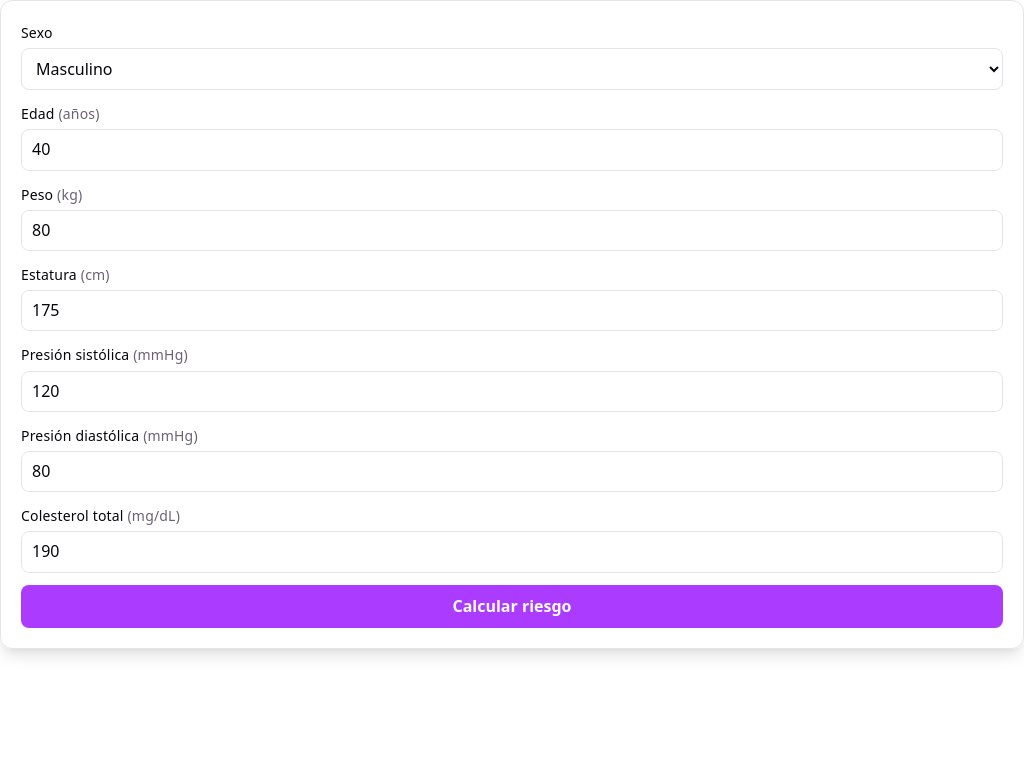
Test: PatientForm › avisa cuando un campo está vacío o fuera de rango
Step 1. Clear the number field labelled "Edad (años)" → x=512, y=150, box x1=21 y1=129 x2=1003 y2=171
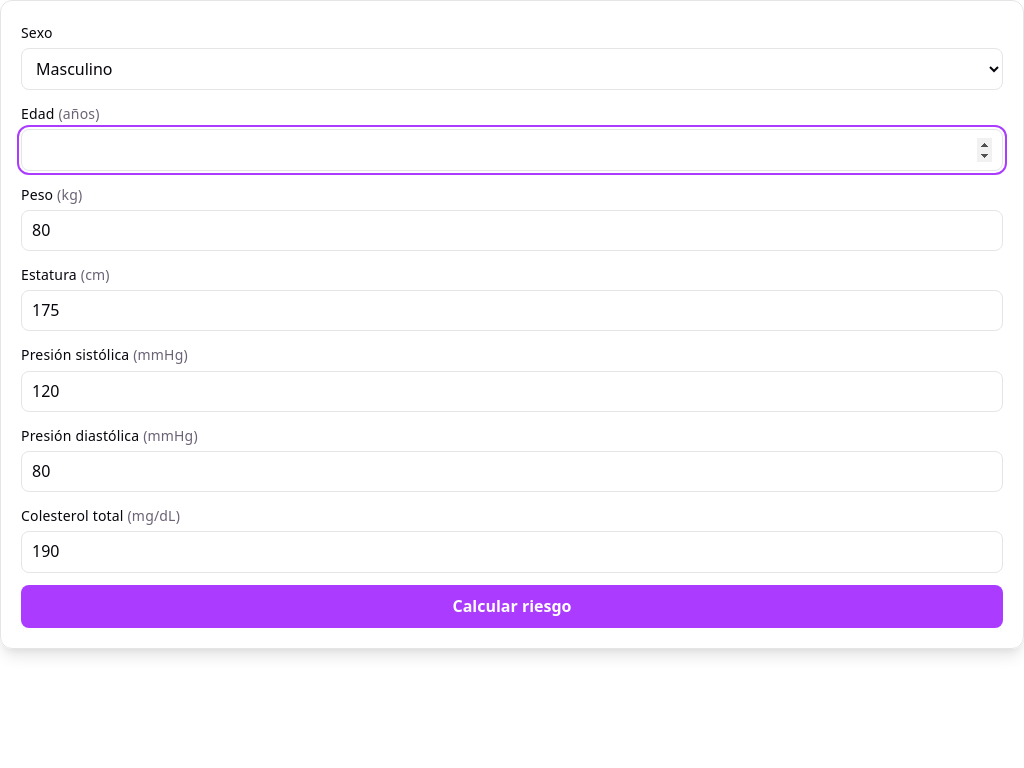
Step 2. Click the button "Calcular riesgo" → x=512, y=606, box x1=21 y1=584 x2=1003 y2=628
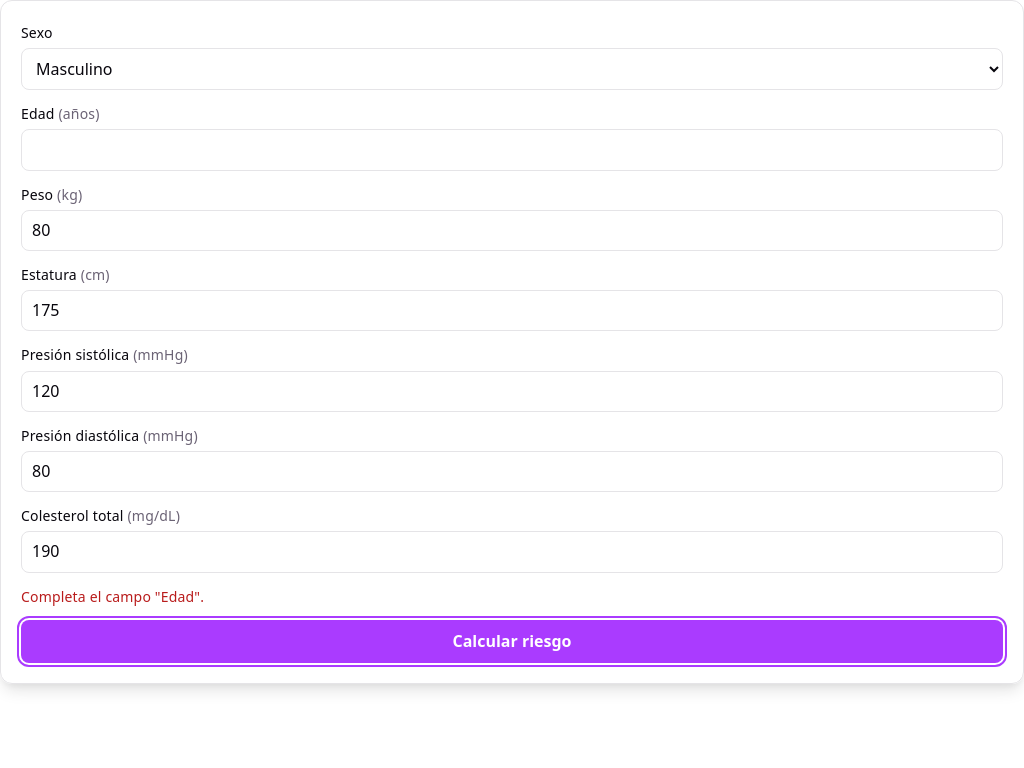
Now the message shows "Completa el campo \"Edad\"", box x1=21 y1=586 x2=204 y2=606
